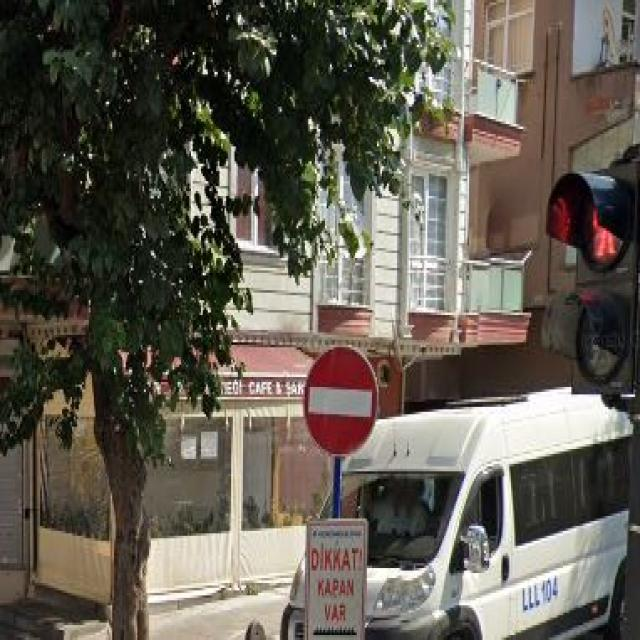girisyok: (305, 345, 377, 459)
